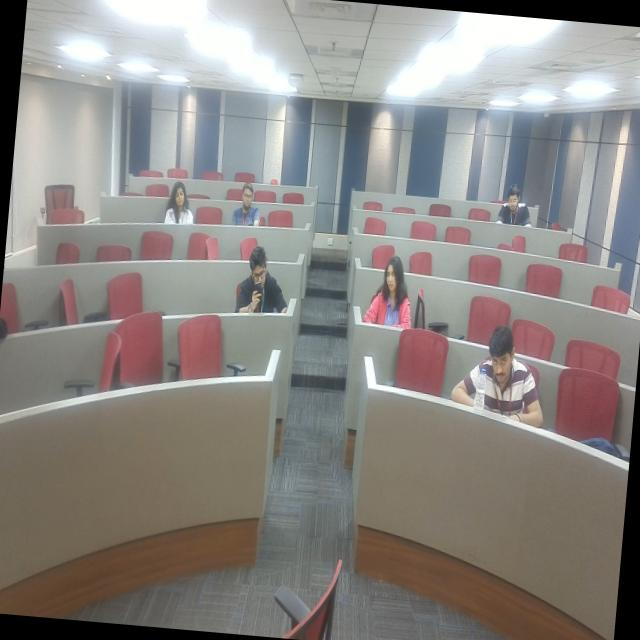cheating: (230, 236, 298, 332), (358, 253, 420, 341)
non-cheating: (456, 320, 554, 434)
